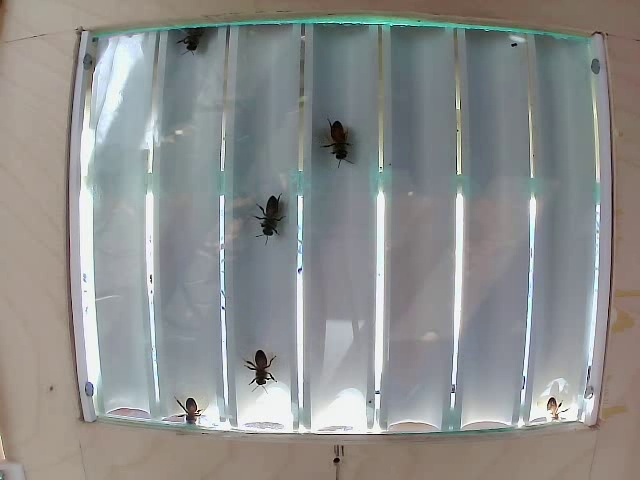bee: (315, 121, 352, 173), (257, 192, 292, 244), (178, 380, 219, 419), (247, 346, 282, 391), (178, 24, 211, 60)
